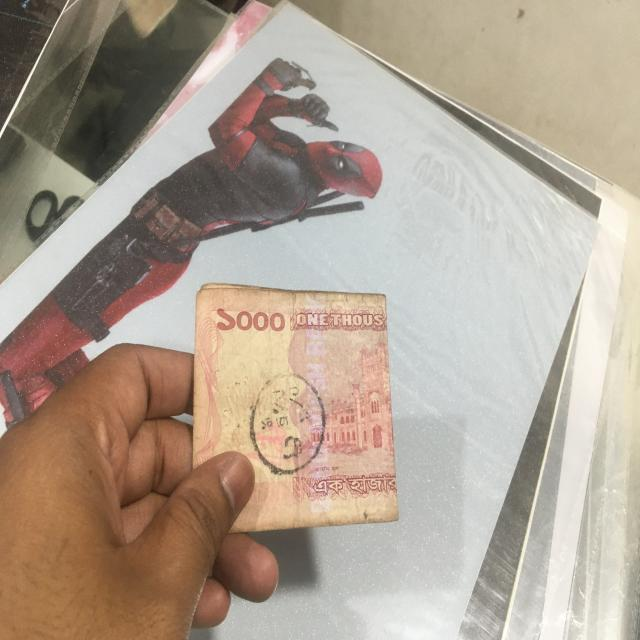Taka: (191, 277, 399, 528)
